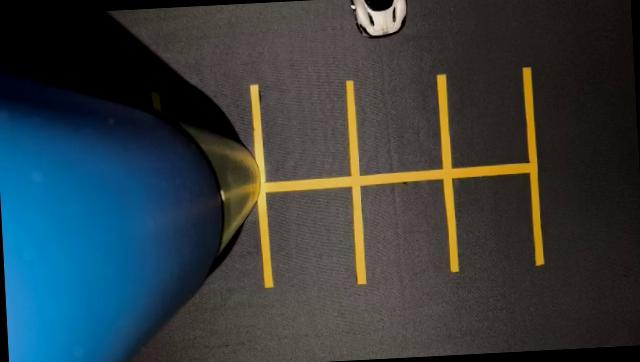toy_car: (319, 0, 432, 53)
